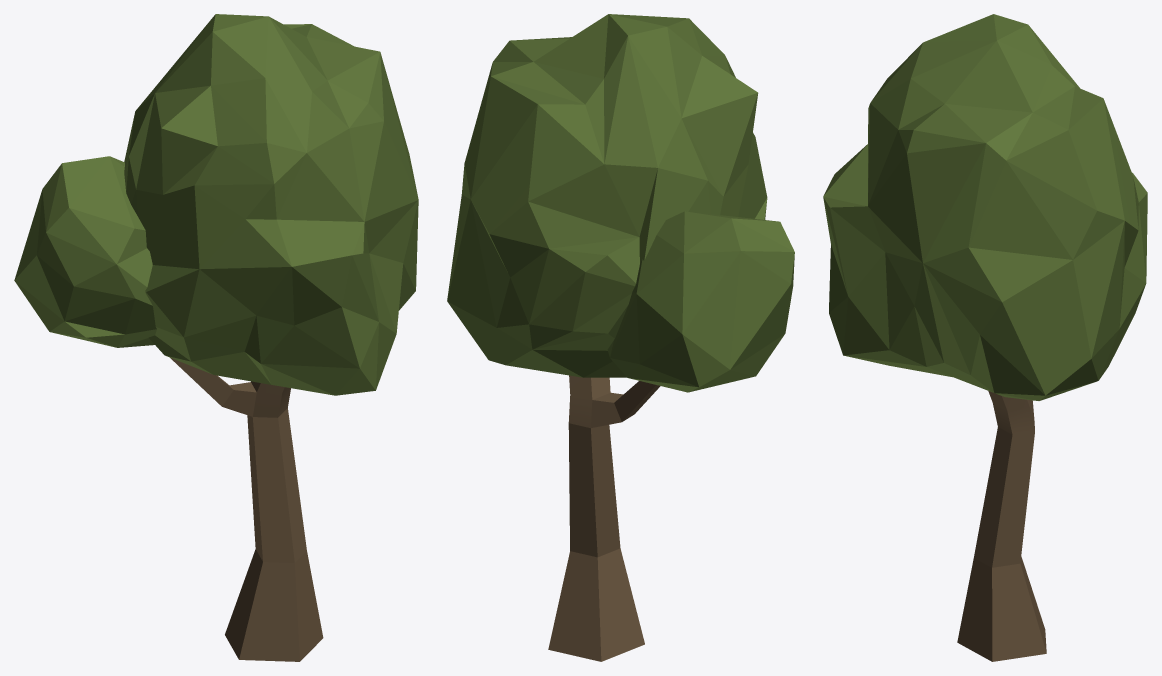
File: SM_Env_Tree_03.glb
3 renders of one model, left to right at view 1: azimuth 30°, elevation 25°; view 2: azimuth 150°, elevation 25°; view 3: azimuth 270°, elevation 25°, orthographic. The views are drawn at different scales.
Parts seen in each view (by area): view 1: SM_Env_Tree_03; view 2: SM_Env_Tree_03; view 3: SM_Env_Tree_03.
Boxes of the visible parts, x1=… form: SM_Env_Tree_03: x1=14, y1=14, x2=418, y2=661; SM_Env_Tree_03: x1=447, y1=14, x2=794, y2=661; SM_Env_Tree_03: x1=823, y1=14, x2=1147, y2=661.
Bounding box in the file's own units: 0.0222 × 0.0385 × 0.0189.
Materials: 1 (1 with a texture image).
